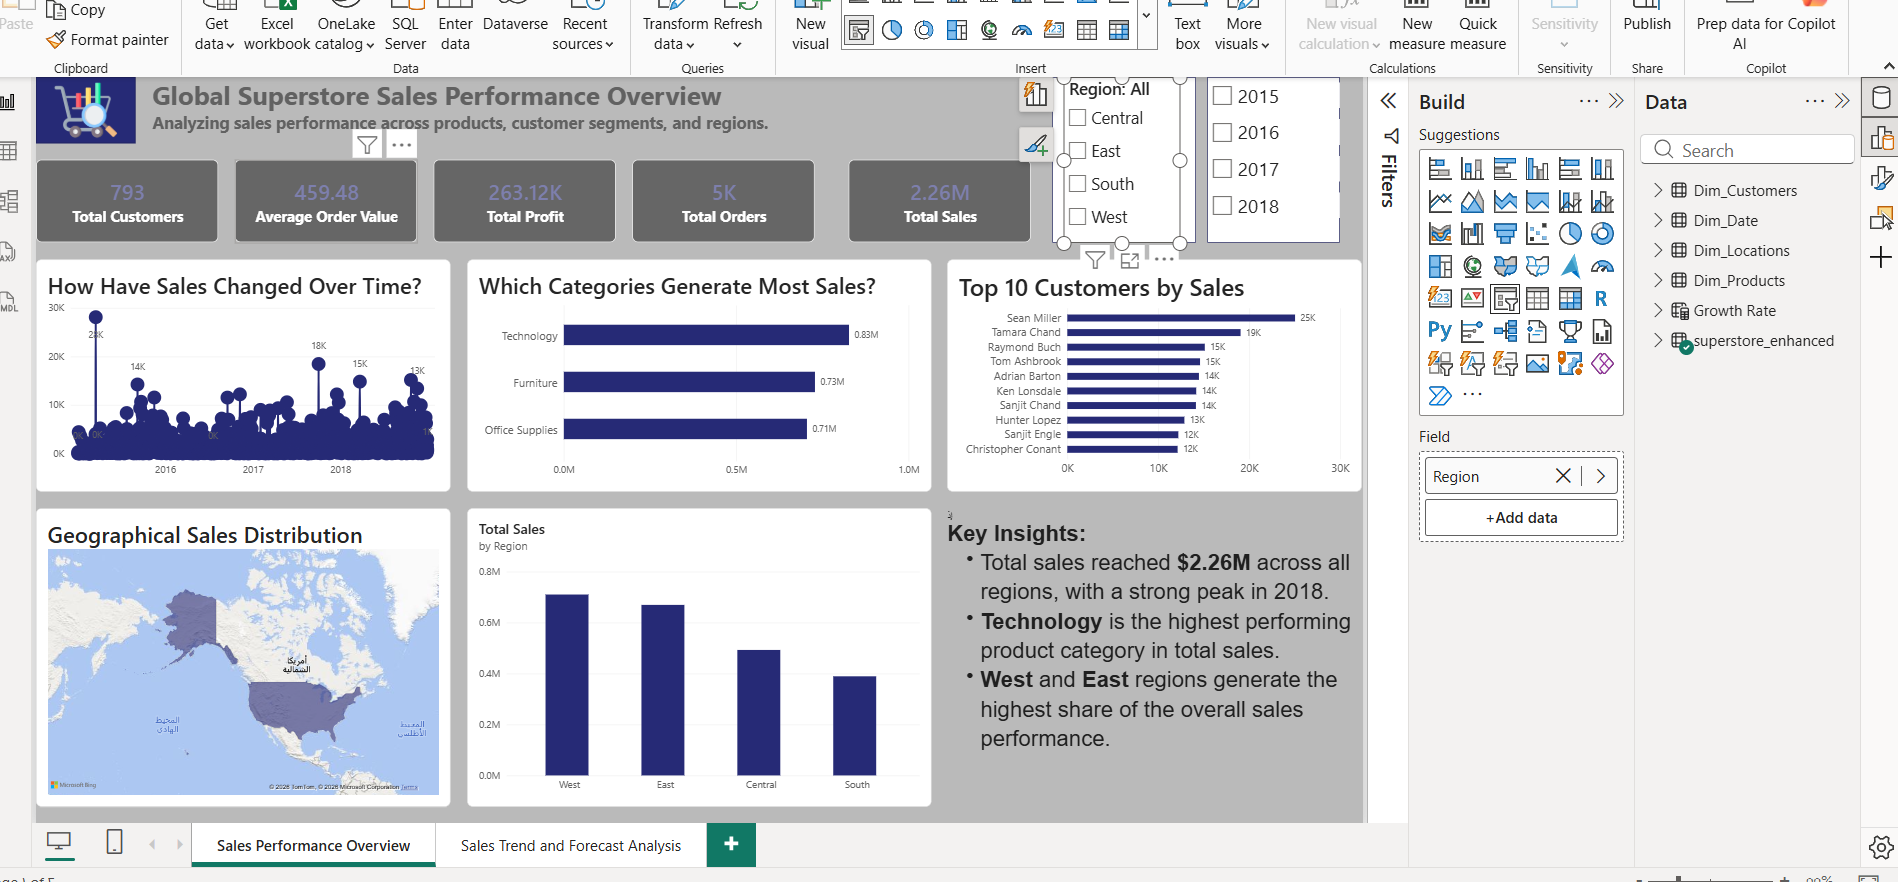

Layout of this report page (visuals, bound fields, positions):
{"tool":"powerbi","page":{"name":"Sales Performance Overview","canvas":[1920,1080],"ordinal":0},"visuals":[{"type":"textbox","box":[168,0,960,168],"z":0},{"type":"shape","box":[0,0,144,96],"z":1000},{"type":"image","box":[0,0,144,96],"z":2000},{"type":"cardVisual","fields":{"Data":["superstore_enhanced.Total Customers"]},"box":[0,120,264,120],"z":3000},{"type":"cardVisual","fields":{"Data":["superstore_enhanced.Total Sales"]},"box":[1176,120,264,120],"z":4000},{"type":"cardVisual","fields":{"Data":["superstore_enhanced.Average Order Value"]},"box":[288,120,264,120],"z":5000},{"type":"cardVisual","fields":{"Data":["superstore_enhanced.Total Orders"]},"box":[864,120,264,120],"z":6000},{"type":"cardVisual","fields":{"Data":["superstore_enhanced.Total Profit"]},"box":[576,120,264,120],"z":7000},{"type":"shape","box":[1696,0,192,240],"z":8000},{"type":"shape","box":[1472,0,208,240],"z":9000},{"type":"slicer","fields":{"Values":["superstore_enhanced.Region"]},"box":[1488,0,168,240],"z":10000},{"type":"slicer","fields":{"Values":["superstore_enhanced.Order Year"]},"box":[1696,0,192,240],"z":11000},{"type":"lineChart","title":"How Have Sales Changed Over Time?","fields":{"Category":["Dim_Date.Order Date.Variation.Date Hierarchy.Year"],"Y":["superstore_enhanced.Total Sales"]},"box":[0,264,600,336],"z":12000},{"type":"clusteredBarChart","title":"Which Categories Generate Most Sales?","fields":{"Category":["superstore_enhanced.Category"],"Y":["superstore_enhanced.Total Sales"]},"box":[624,264,672,336],"z":13000},{"type":"filledMap","title":"Geographical Sales Distribution","fields":{"Category":["superstore_enhanced.Country"]},"box":[0,624,600,432],"z":14000},{"type":"columnChart","fields":{"Category":["superstore_enhanced.Region"],"Y":["superstore_enhanced.Total Sales"]},"box":[624,624,672,432],"z":14001},{"type":"clusteredBarChart","title":"Top 10 Customers by Sales","fields":{"Category":["superstore_enhanced.Customer Name"],"Y":["superstore_enhanced.Total Sales"]},"box":[1320,264,600,336],"z":14002},{"type":"textbox","box":[1320,624,600,432],"z":14003}]}

Visuals, with their boxes on the page's 1920x1080 design canvas (x1, y1, x2, y2). These are canvas units, not pixel positions in the 1898x882 screenshot, which may show the page scaled, cropped or inside an application window:
textbox: 168/0/1128/168
shape: 0/0/144/96
image: 0/0/144/96
cardVisual - superstore_enhanced.Total Customers: 0/120/264/240
cardVisual - superstore_enhanced.Total Sales: 1176/120/1440/240
cardVisual - superstore_enhanced.Average Order Value: 288/120/552/240
cardVisual - superstore_enhanced.Total Orders: 864/120/1128/240
cardVisual - superstore_enhanced.Total Profit: 576/120/840/240
shape: 1696/0/1888/240
shape: 1472/0/1680/240
slicer - superstore_enhanced.Region: 1488/0/1656/240
slicer - superstore_enhanced.Order Year: 1696/0/1888/240
"How Have Sales Changed Over Time?" lineChart: 0/264/600/600
"Which Categories Generate Most Sales?" clusteredBarChart: 624/264/1296/600
"Geographical Sales Distribution" filledMap: 0/624/600/1056
columnChart - superstore_enhanced.Region x superstore_enhanced.Total Sales: 624/624/1296/1056
"Top 10 Customers by Sales" clusteredBarChart: 1320/264/1920/600
textbox: 1320/624/1920/1056
